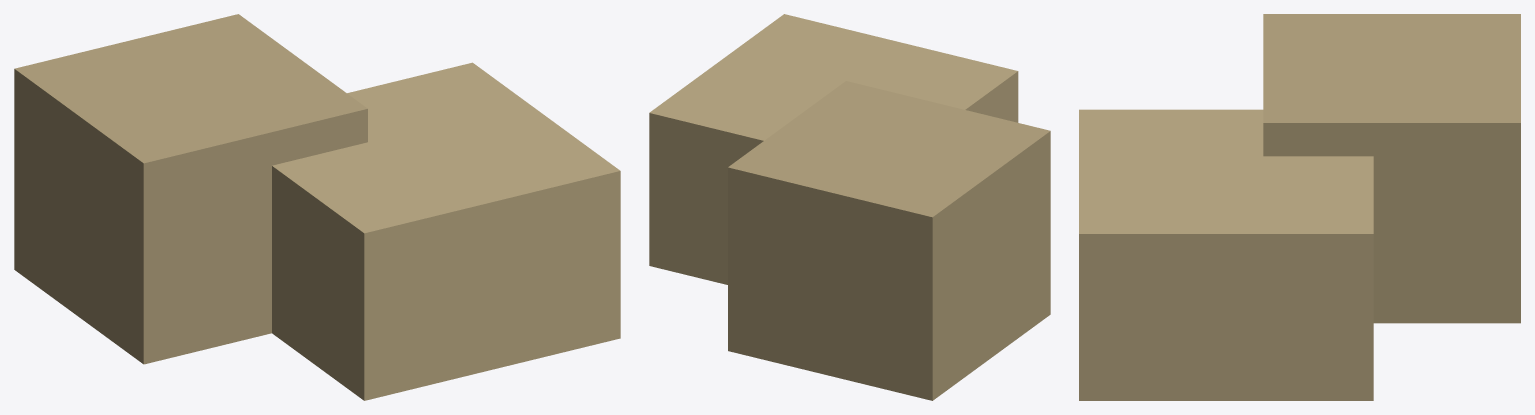
The model's file is arenisca_05.glb.
3 views of the same model, side by side, from view 1: azimuth 30°, elevation 25°; view 2: azimuth 150°, elevation 25°; view 3: azimuth 270°, elevation 25° (orthographic). The views are drawn at different scales.
Parts seen in each view (by area): view 1: arenisca_05; view 2: arenisca_05; view 3: arenisca_05.
Part boxes in pixels (x1,y1,x2,y2): arenisca_05: (14,14,620,400); arenisca_05: (649,14,1050,400); arenisca_05: (1079,14,1520,400).
Bounding box in the file's own units: 1.2 × 0.6 × 1.2.
